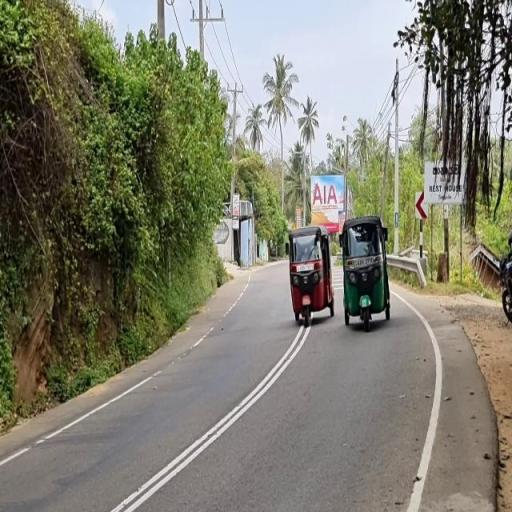double_white_line: (110, 325, 306, 512)
